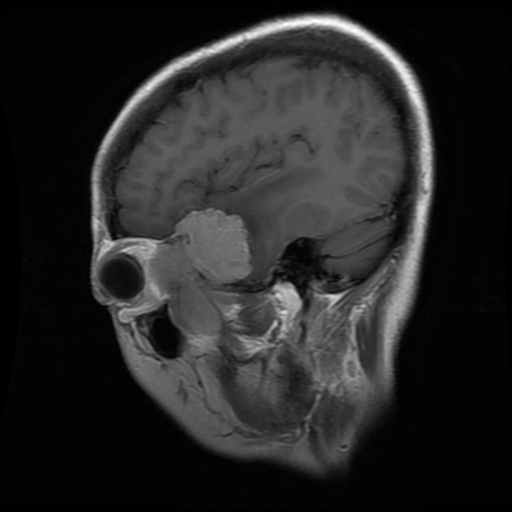meningioma: (173, 207, 253, 283)
